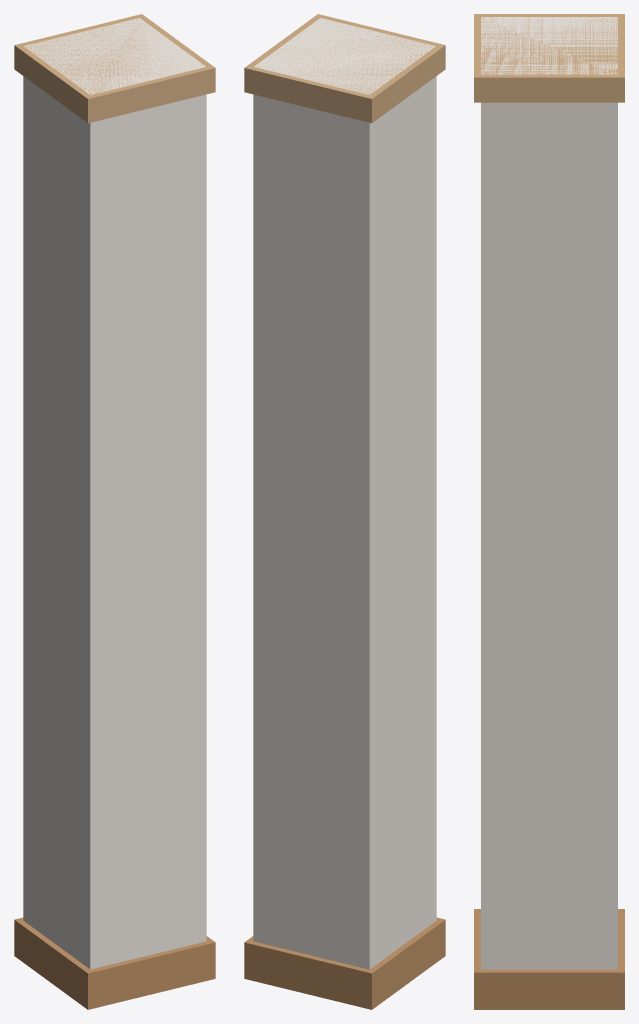
Rendered from column.glb.
3 views of the same model, side by side, from view 1: azimuth 30°, elevation 25°; view 2: azimuth 150°, elevation 25°; view 3: azimuth 270°, elevation 25° (orthographic). The views are drawn at different scales.
Visible parts, largest first — view 1: column; view 2: column; view 3: column.
Part boxes in pixels (box(x1,y1,x2,y2)): column: box(14, 14, 215, 1009); column: box(244, 14, 445, 1009); column: box(474, 14, 624, 1009).
Bounding box in the file's own units: 0.44 × 3 × 0.44.
Materials: 1 (1 with a texture image).
